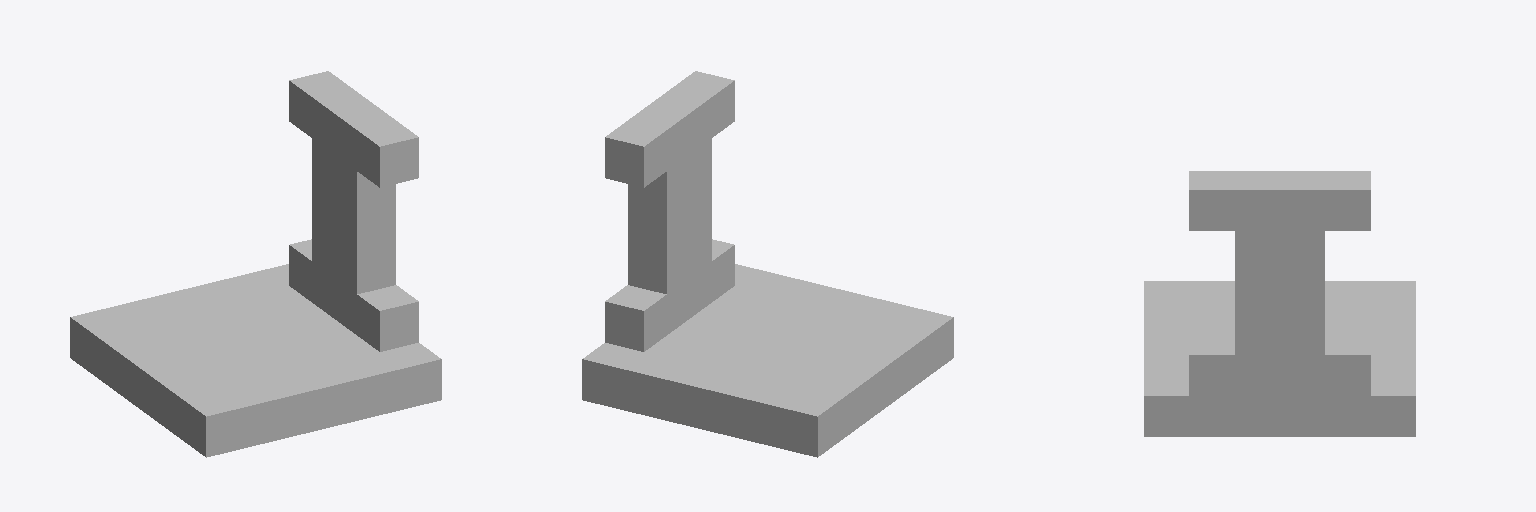
File: elevator.obj
3 views of the same model, side by side, from view 1: azimuth 30°, elevation 25°; view 2: azimuth 150°, elevation 25°; view 3: azimuth 270°, elevation 25° (orthographic).
Size of the model in its own units: 6 by 6 by 6.